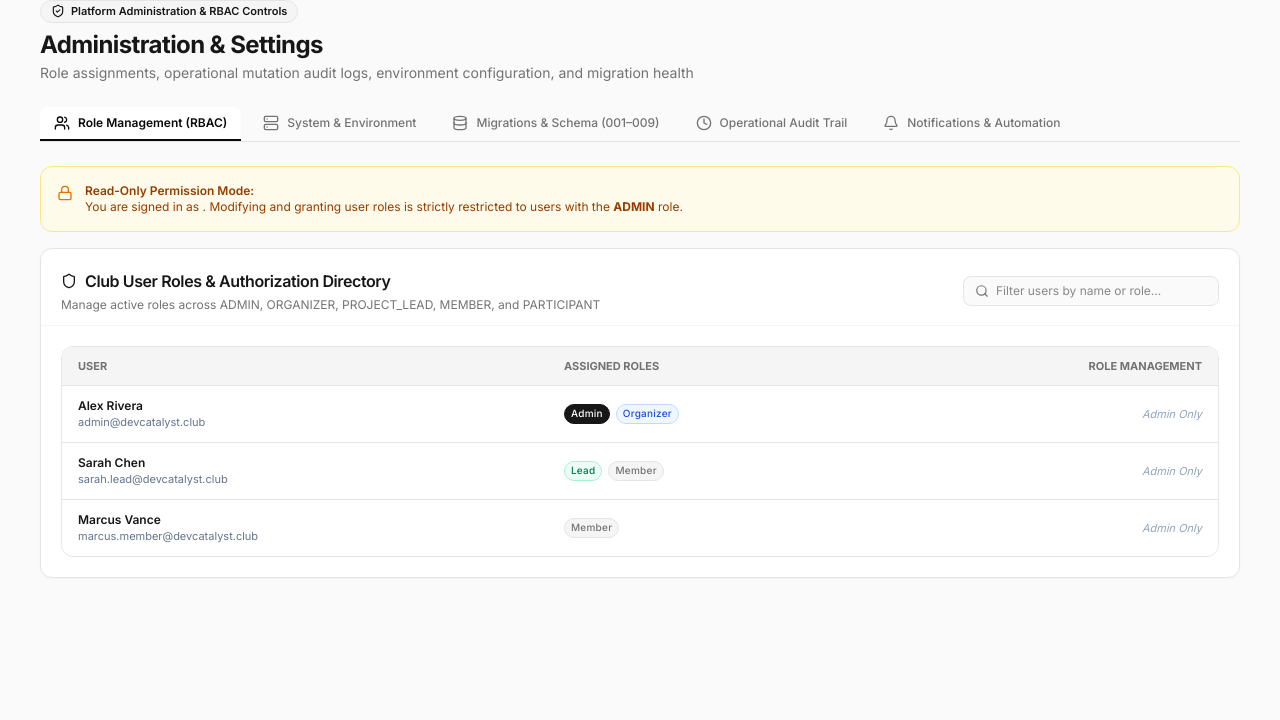
Test: Phase 7: Administration & System Settings Module (/settings) › switches to Operational Audit Trail tab and displays audit events
expect the heading "Administration & Settings" is shown: met, box top-left (40, 30), bottom-right (323, 58)
Click on Audit tab
Click the button "Operational Audit Trail" at (771, 124), box top-left (682, 106), bottom-right (861, 140)
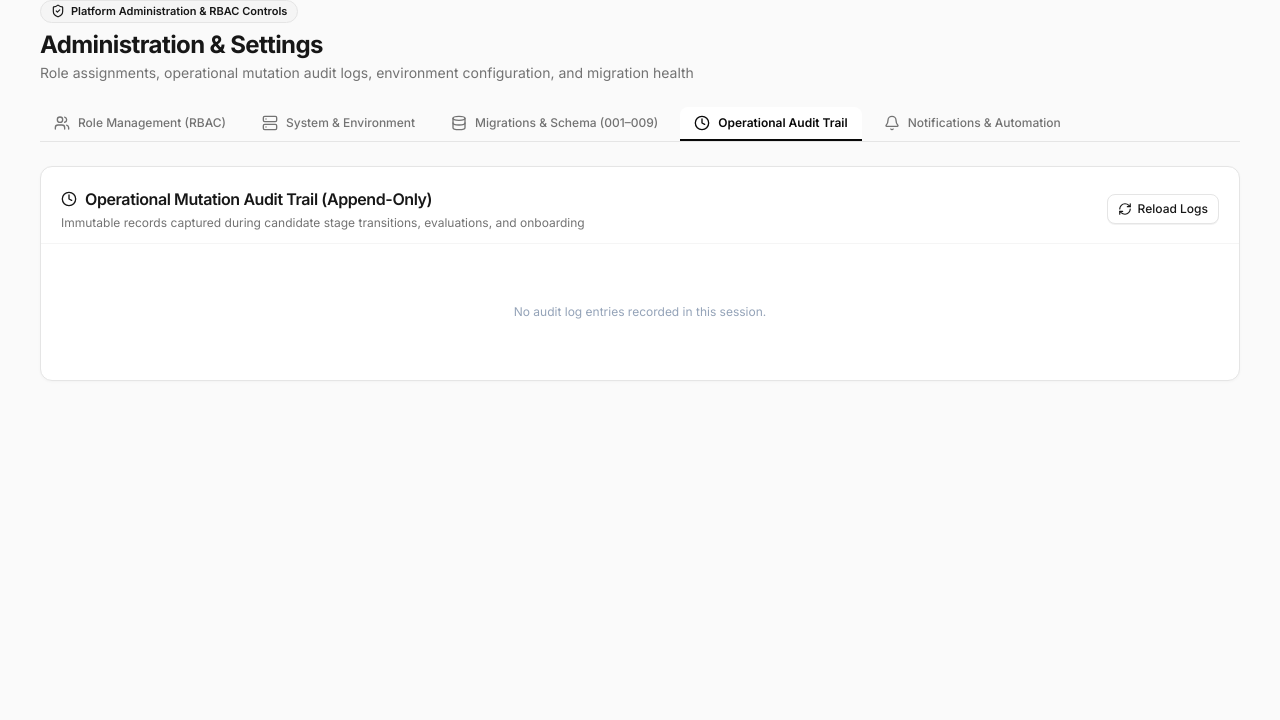
expect the heading "Operational Mutation Audit Trail (Append-Only)" is shown: met, box top-left (61, 188), bottom-right (432, 208)
expect the button "Reload Logs" is shown: met, box top-left (1107, 194), bottom-right (1219, 224)
